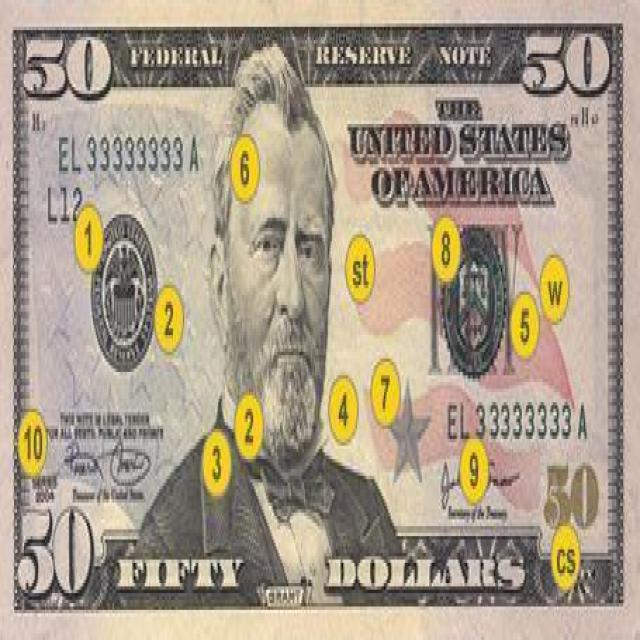50-Front: (0, 3, 640, 640)
